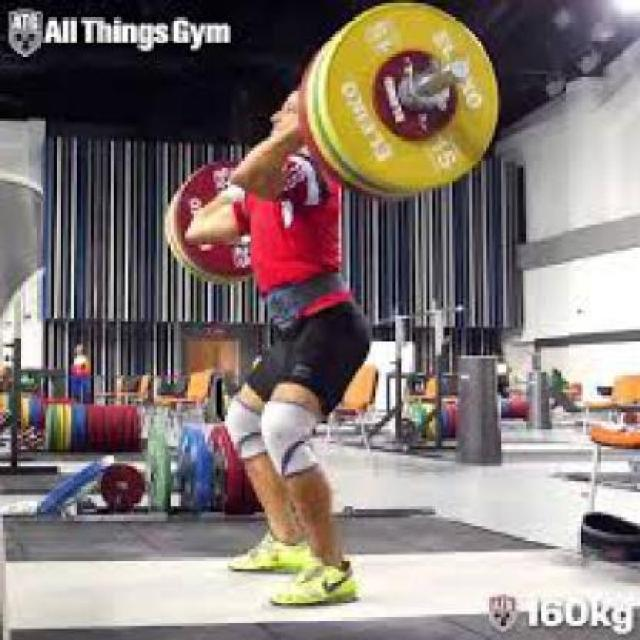barbell: (306, 1, 510, 198)
